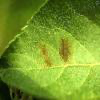Apple Scab Leaf: (2, 1, 99, 98)
